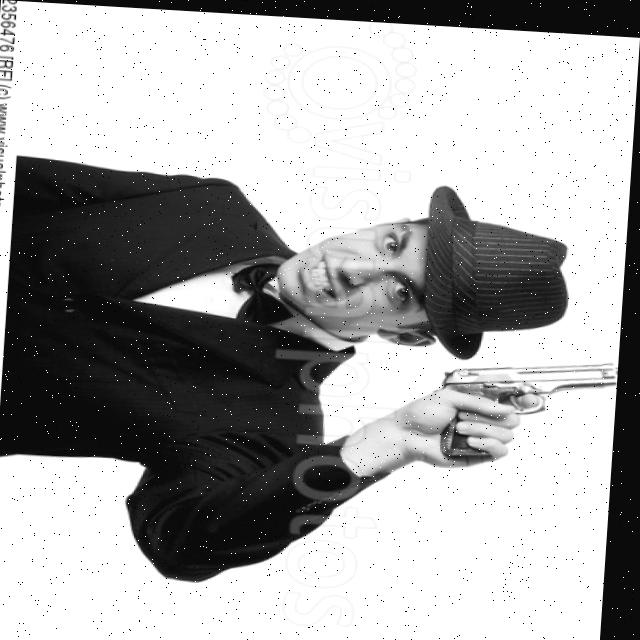pistol: (444, 344, 623, 413)
